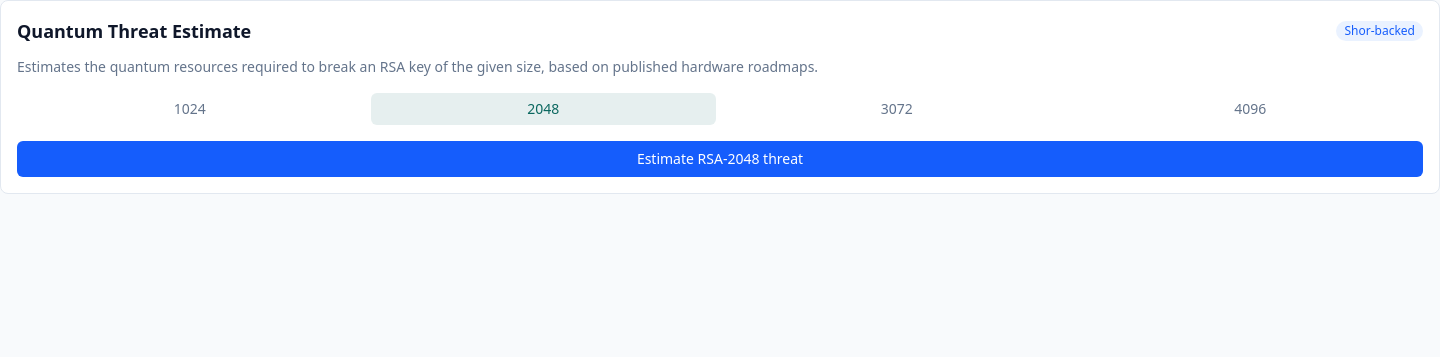
Test: QuantumThreatPanel › renders key size selector and defaults to RSA-2048
The width and height of the screenshot is (1440, 357).
Click the button "Estimate RSA-2048 threat".
click(720, 159)  # box [17,141,1423,177]
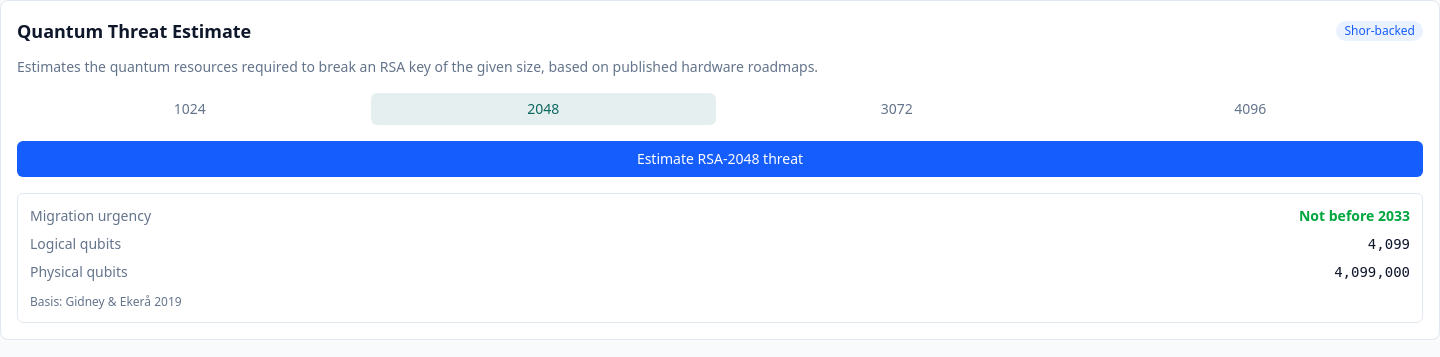
Now the text "Not before 2033" is shown, box [1299,206,1410,225]
Now the text "4,099" is shown, box [1368,234,1410,254]
